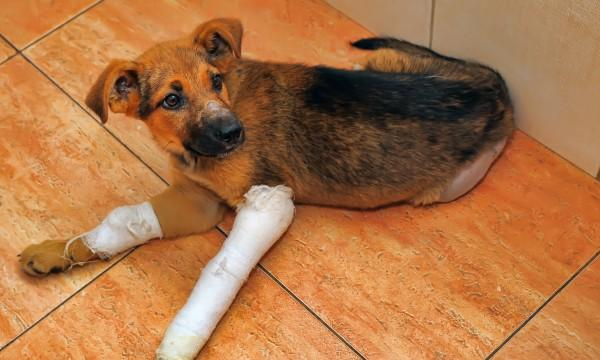fracture: (43, 178, 281, 355)
